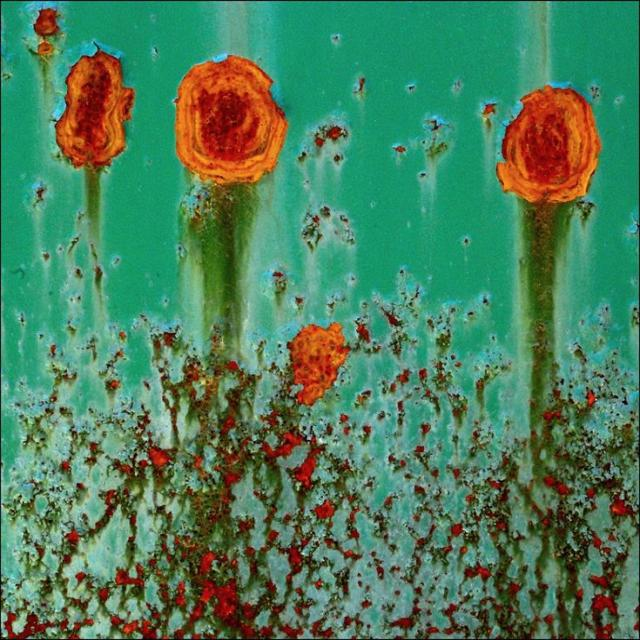Pitting Corrosion: (3, 6, 637, 639), (293, 115, 355, 260), (390, 115, 452, 210), (263, 265, 290, 317), (352, 74, 367, 108), (32, 183, 47, 209), (401, 82, 418, 99), (330, 33, 340, 48), (589, 85, 599, 100)
